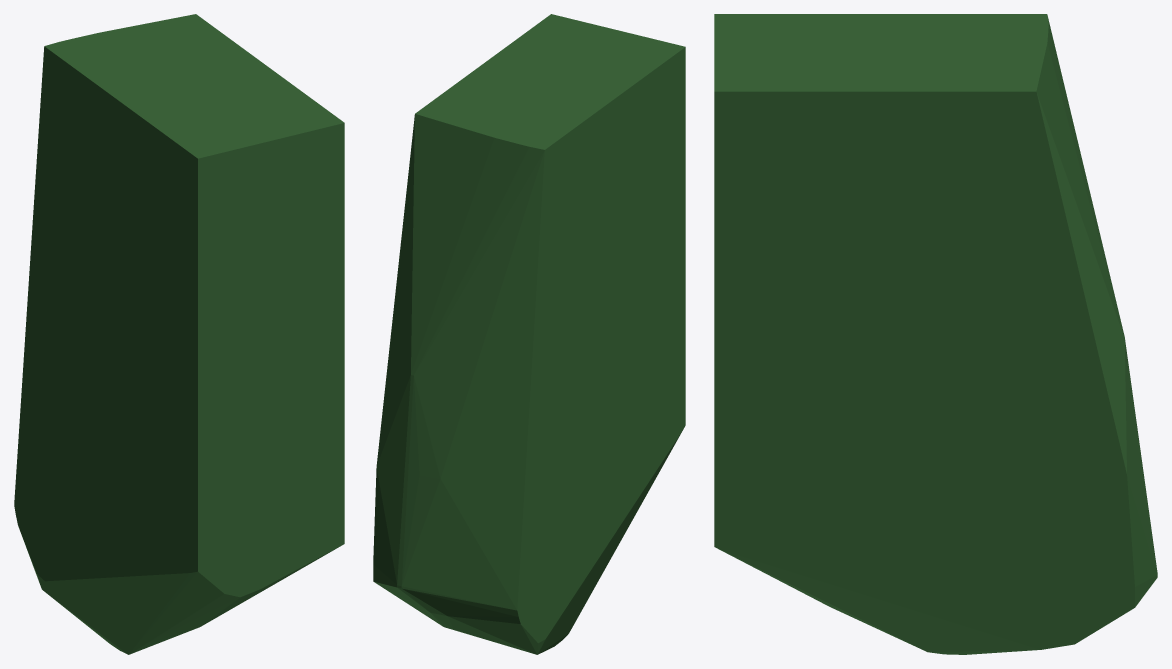
3 renders of one model, left to right at view 1: azimuth 30°, elevation 25°; view 2: azimuth 150°, elevation 25°; view 3: azimuth 270°, elevation 25°, orthographic. The views are drawn at different scales.
Bounding box in the file's own units: 0.0095 × 0.0357 × 0.023.
